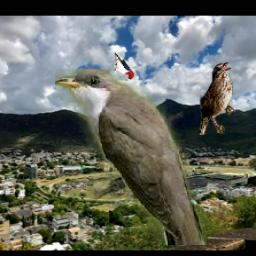Cuckoo: (55, 69, 207, 245)
Sparrow: (199, 61, 234, 135)
Woodpecker: (115, 51, 135, 82)
